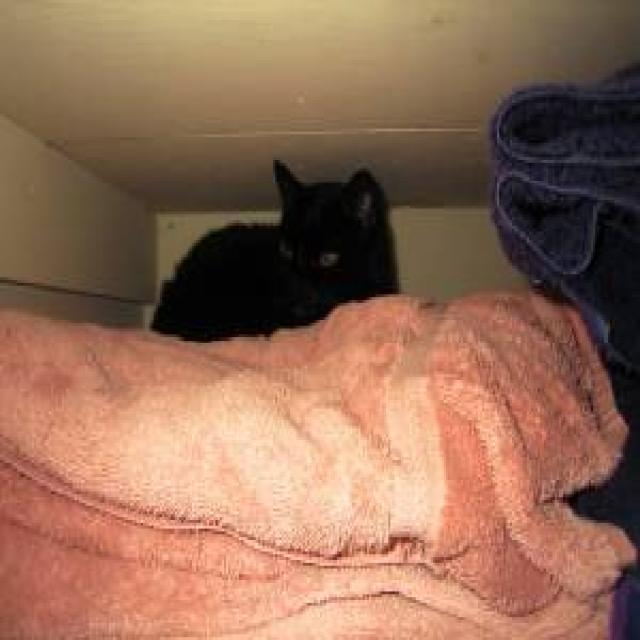Bombay: (260, 137, 400, 326)
